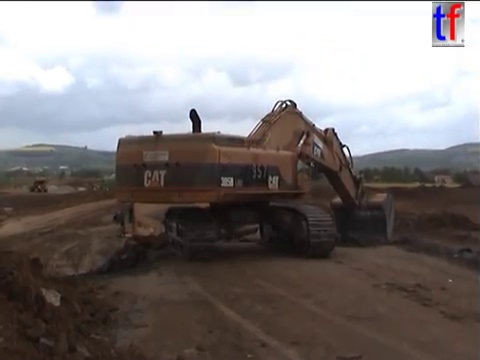excavator: (111, 96, 398, 260)
truck: (112, 197, 261, 272), (28, 176, 50, 195)
